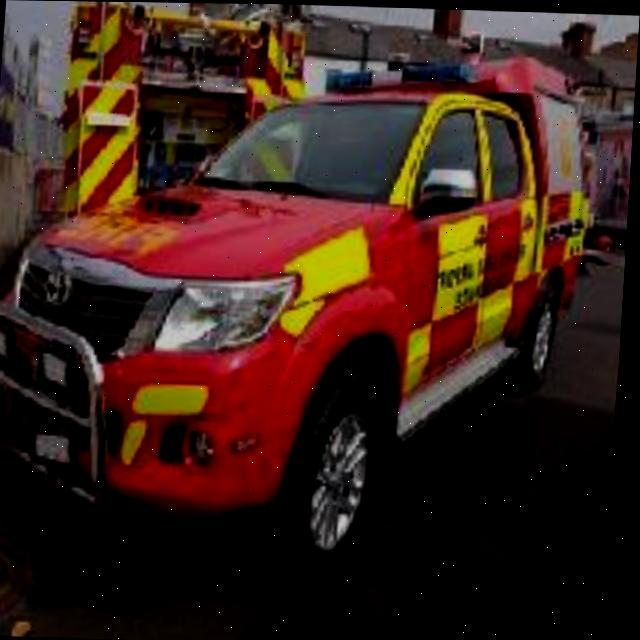emergency: (0, 24, 601, 581)
